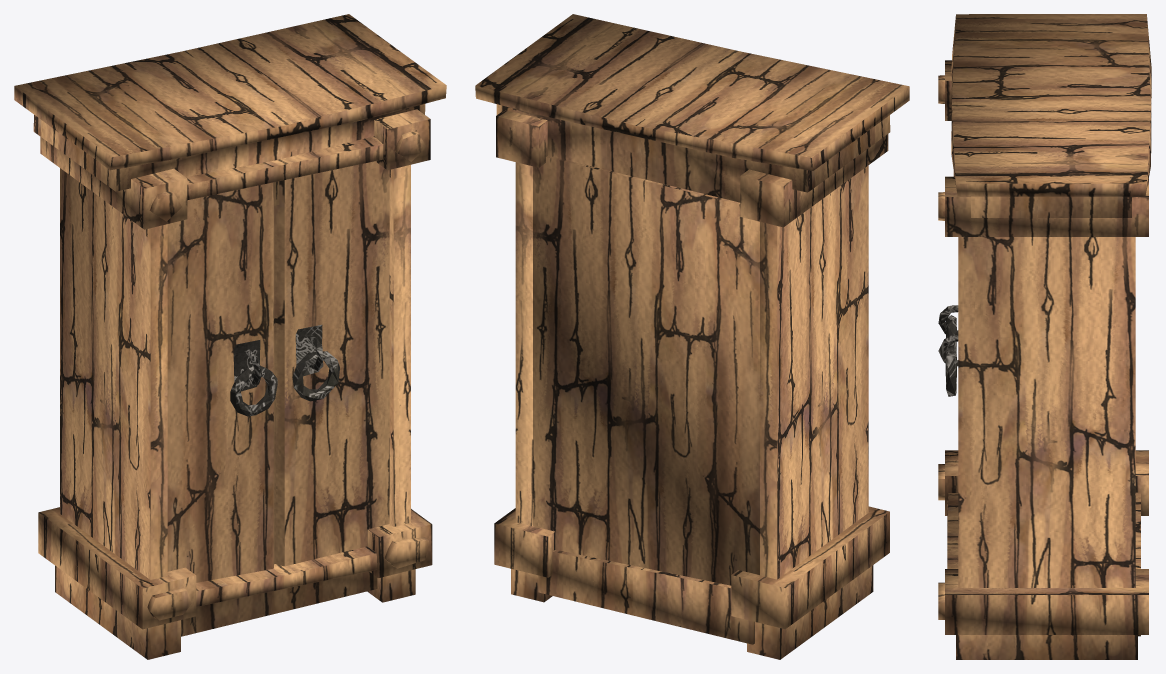
The model's file is closed_shelf.glb.
The picture shows the model from 3 angles, left to right: view 1: azimuth 30°, elevation 25°; view 2: azimuth 150°, elevation 25°; view 3: azimuth 270°, elevation 25°; orthographic projection. The views are drawn at different scales.
Visible parts, largest first — view 1: Closed Shelf; view 2: Closed Shelf; view 3: Closed Shelf.
Part boxes in pixels (left/top/right/bottom): Closed Shelf: left=14, top=14, right=446, bottom=659; Closed Shelf: left=475, top=14, right=909, bottom=659; Closed Shelf: left=938, top=14, right=1151, bottom=659.
Bounding box in the file's own units: 0.8862 × 1.29 × 0.4982.
Materials: 2 (2 with a texture image).
